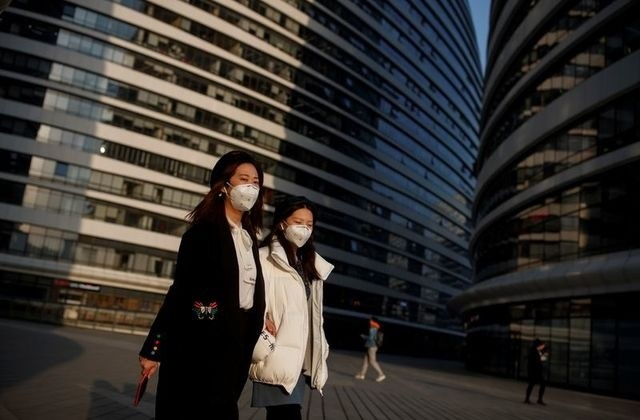face_with_mask: (208, 148, 267, 216), (276, 195, 320, 249)
